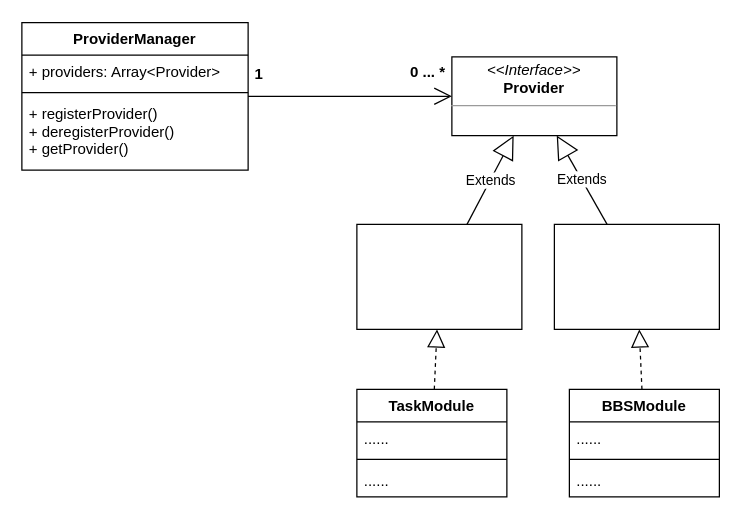
The diagram is 741 pixels wide and 521 high, and some of its shapes have lost their labels. The centre of each missing label's shape, as x and y in pixels:
<<Interface>> BBSProvider + createNewPost() + ......: point (636, 276)
<<Interface>> TaskProvider + showTaskDetail() + ......: point (439, 276)
